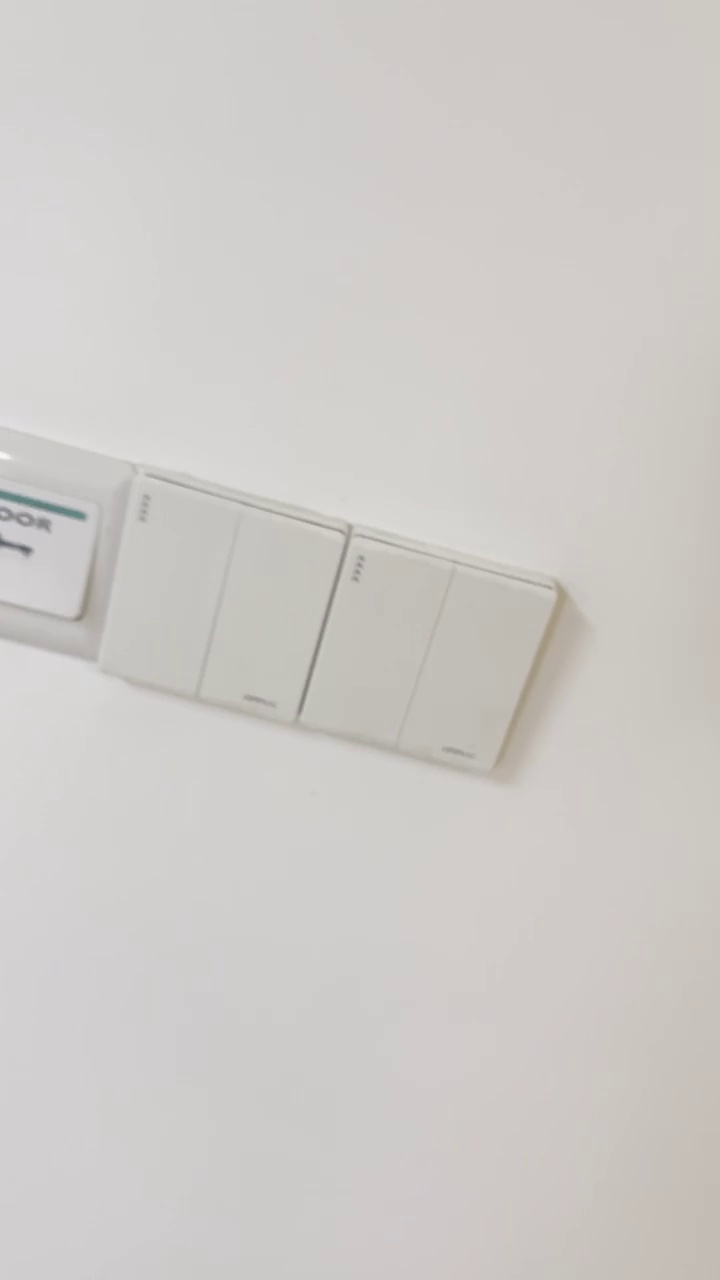button: (296, 525, 565, 783), (91, 462, 346, 724)
